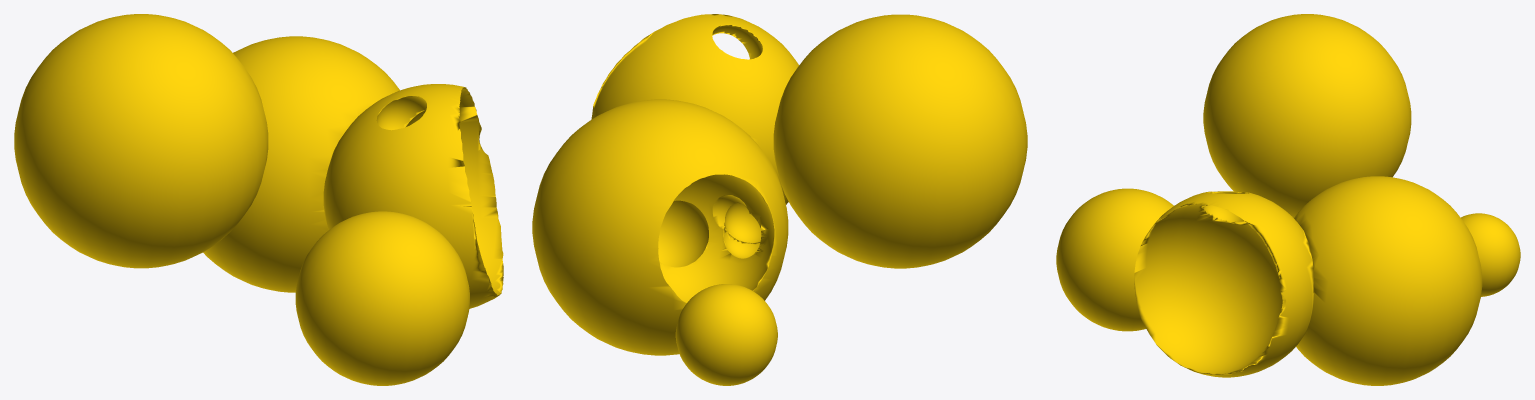
Rendered from net_result.glb.
3 renders of one model, left to right at view 1: azimuth 30°, elevation 25°; view 2: azimuth 150°, elevation 25°; view 3: azimuth 270°, elevation 25°, orthographic. The views are drawn at different scales.
Visible parts, largest first — view 1: Renderer Node; view 2: Renderer Node; view 3: Renderer Node.
Part boxes in pixels (<box>): Renderer Node: <box>14,14,503,385</box>; Renderer Node: <box>532,14,1027,385</box>; Renderer Node: <box>1056,14,1520,385</box>.
Size of the model in its own units: 2040 by 1479 by 2273.
